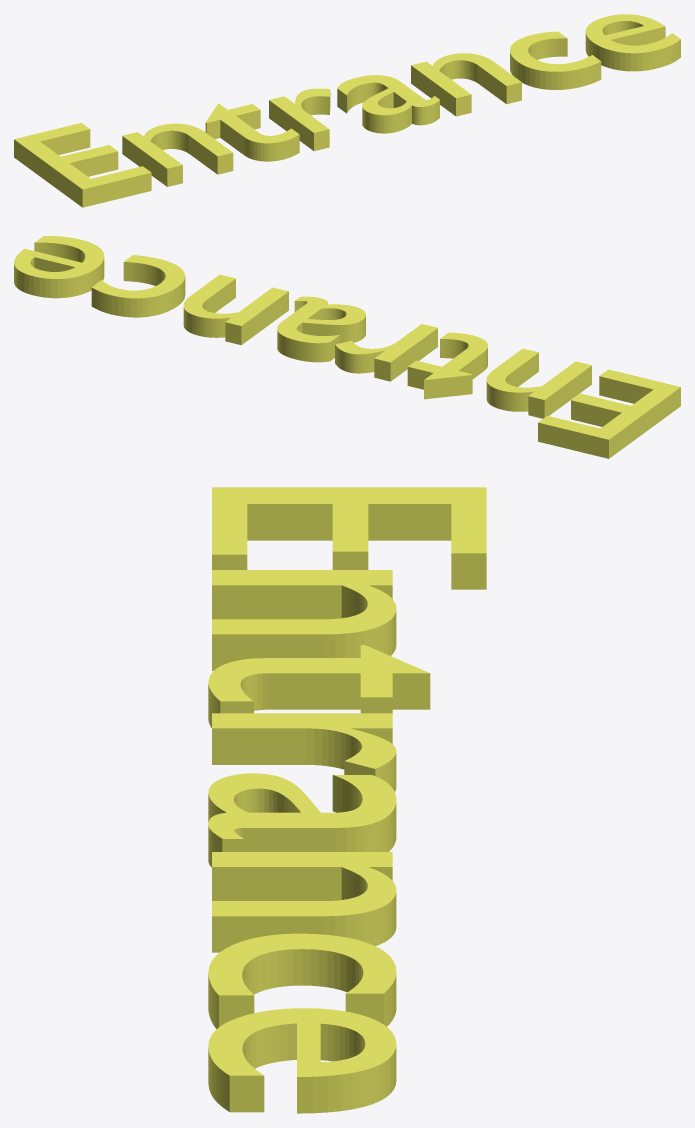
Rendered from hj-entrance.obj.
3 views of the same model, one above another, from view 1: azimuth 30°, elevation 25°; view 2: azimuth 150°, elevation 25°; view 3: azimuth 270°, elevation 25° (orthographic). The views are drawn at different scales.
Visible parts, largest first — view 1: Text; view 2: Text; view 3: Text.
Boxes of the visible parts, x1,y1,x2,y2 form: Text: (14, 14, 680, 207); Text: (14, 236, 680, 458); Text: (208, 487, 486, 1113).
Bounding box in the file's own units: 3.46 × 0.1 × 0.691.
